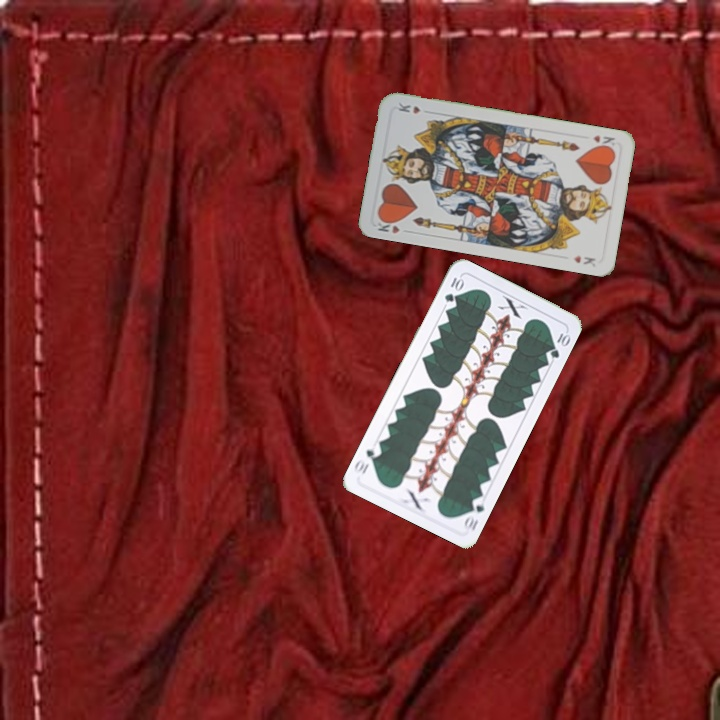G10: (460, 492, 487, 533), (440, 272, 466, 305)
HK: (372, 214, 413, 236), (589, 131, 617, 152)
